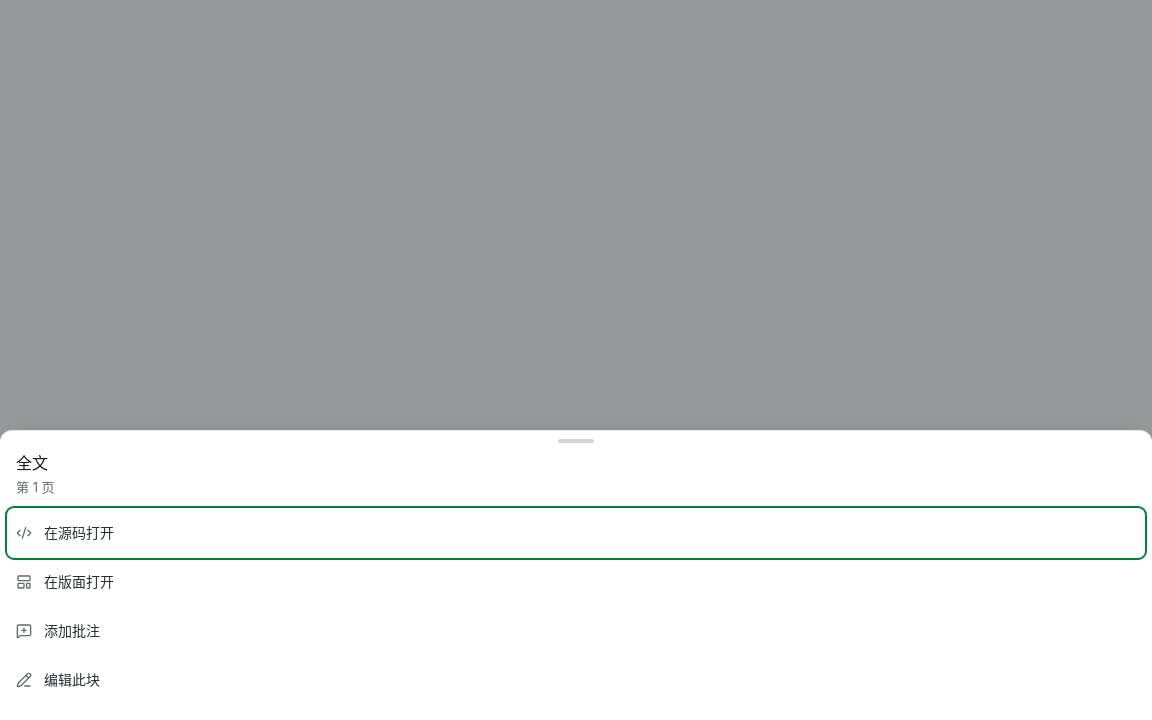
Test: 长按 Sheet › 菜单行 48；批注表单 Sheet 内边距 16 / 顶 8；取消 / 添加批注 md
Click the menu item "添加批注": (72, 630) [8,607,1144,655]
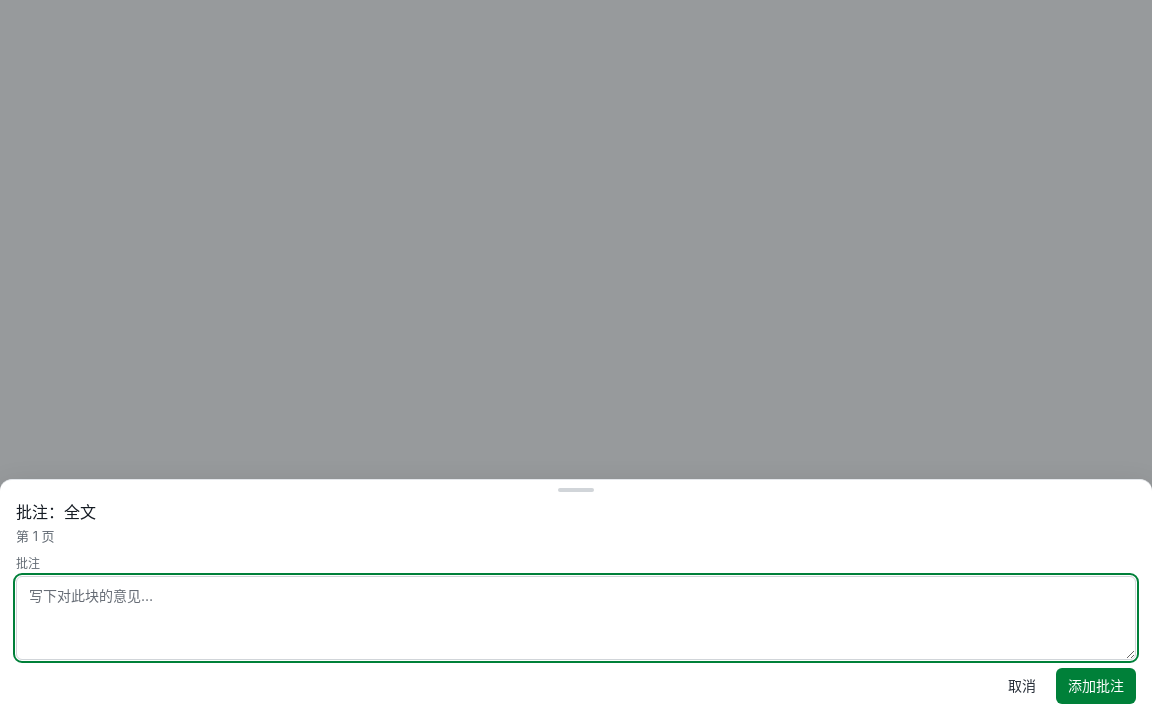
Check: the button "添加批注" is shown, box [1056,668,1136,704]
Check: the button "取消" is shown, box [996,668,1048,704]
